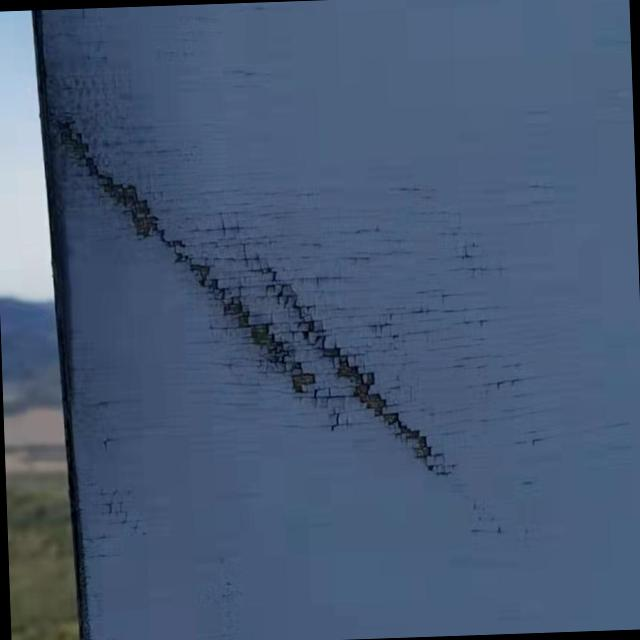crack: (54, 119, 456, 494)
